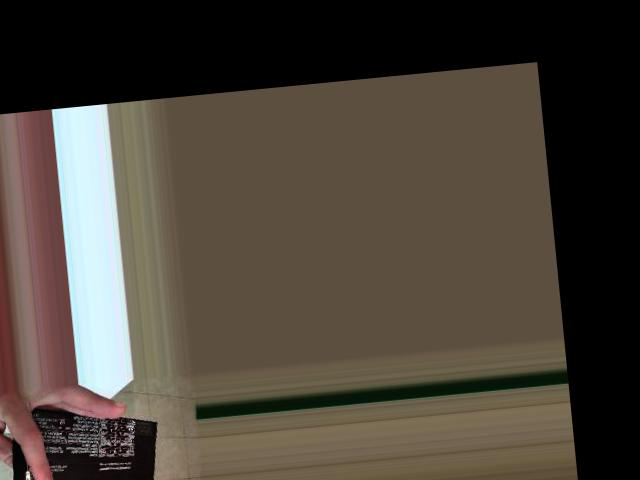chocolate: (6, 393, 168, 480)
